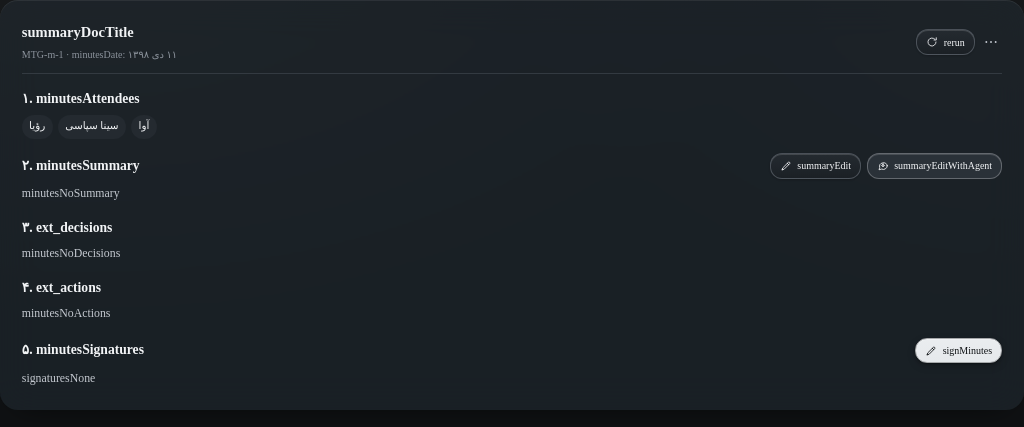
Scenario: the signatures at the foot of the document (db/0229) › names WHICH nothing when signing is refused
The image size is (1024, 427).
Click the button "signMinutes". click: (959, 351)
box: top-left (915, 338), bottom-right (1002, 363)
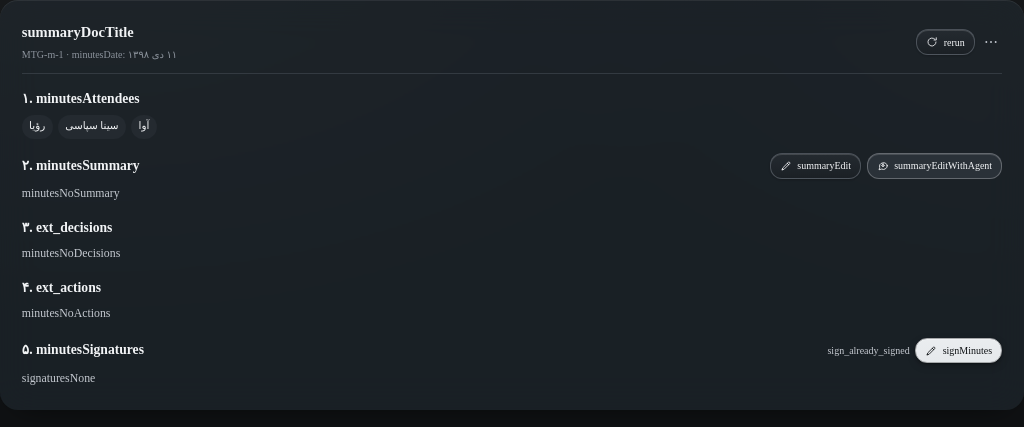
expect the text "sign_already_signed" is shown: met, box top-left (828, 343), bottom-right (910, 358)
